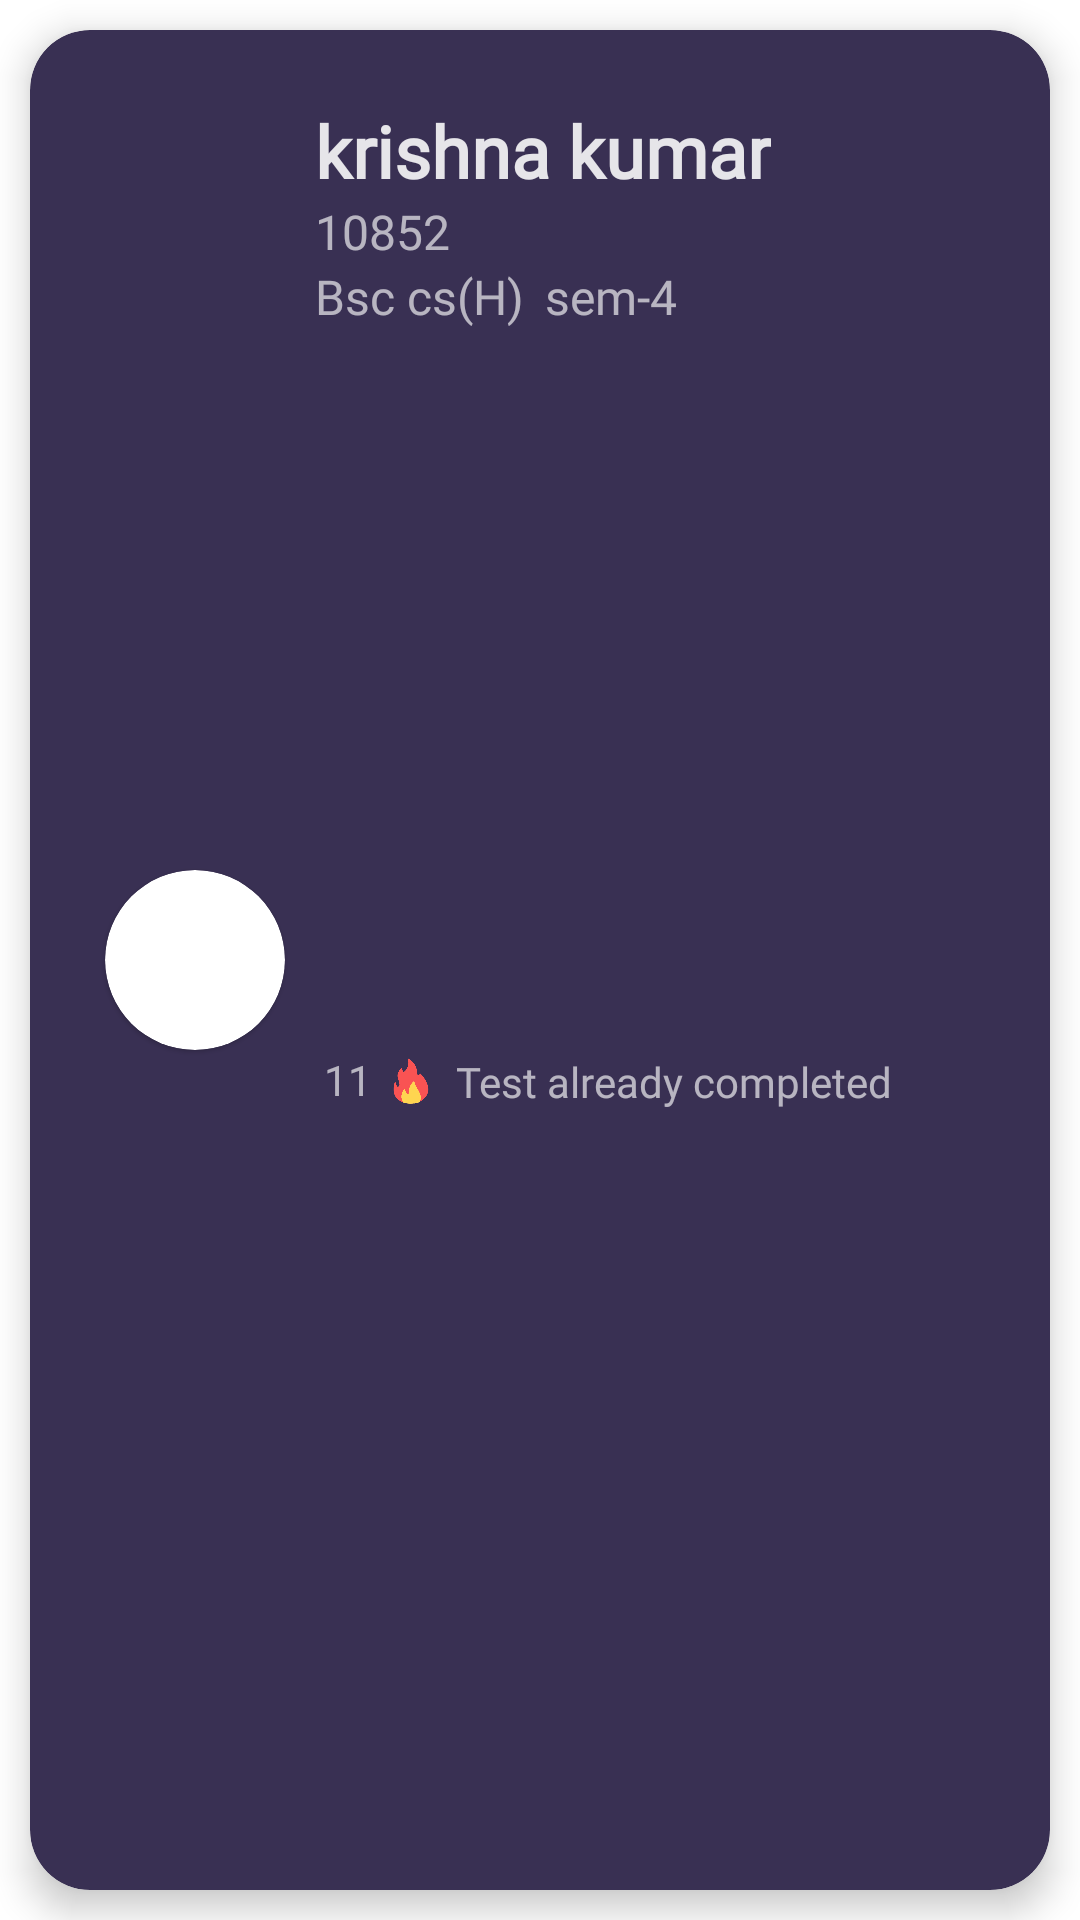

Icons on this 1080x1920 Android screen, each with the point to tap as [x,y]:
campfire: [410,1081]
